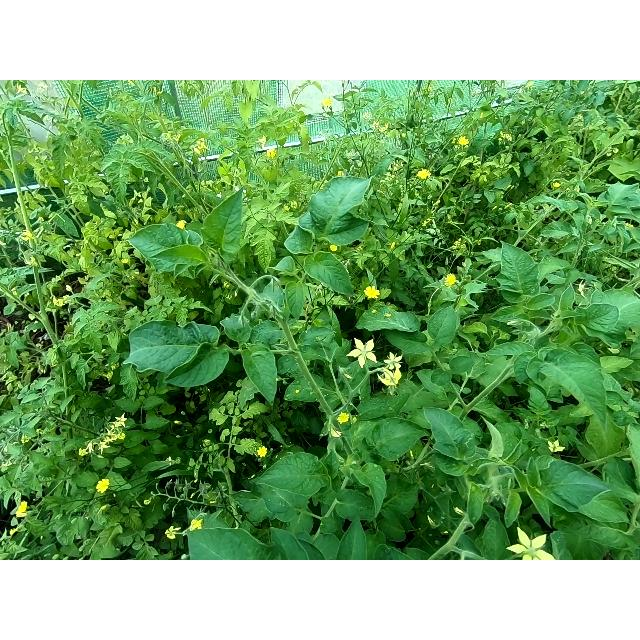Flowers: (507, 525, 555, 559), (348, 338, 378, 367), (376, 368, 406, 388), (383, 350, 403, 370), (105, 428, 127, 442), (193, 138, 209, 154), (547, 439, 565, 453), (14, 500, 28, 518), (114, 412, 128, 428), (79, 442, 95, 456), (452, 238, 468, 252), (363, 286, 381, 298), (96, 478, 110, 492), (188, 519, 204, 531), (416, 168, 432, 180), (52, 296, 70, 306), (256, 444, 268, 458), (166, 526, 178, 540), (444, 273, 456, 287), (99, 439, 109, 455), (22, 256, 38, 266), (328, 427, 342, 438), (338, 412, 350, 424), (578, 280, 586, 298), (16, 84, 28, 95), (21, 230, 34, 240), (321, 96, 334, 106), (176, 219, 188, 229), (266, 148, 278, 158), (500, 131, 512, 141), (257, 138, 267, 148), (458, 135, 468, 145), (372, 121, 380, 131), (551, 180, 561, 188), (422, 218, 432, 226), (364, 110, 371, 120), (164, 133, 172, 141), (20, 436, 30, 442), (174, 134, 182, 140), (382, 124, 390, 130), (329, 245, 337, 251)
